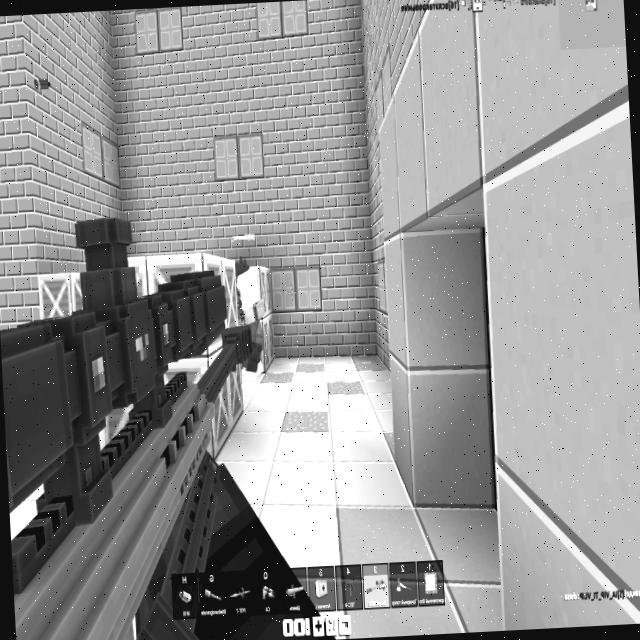Head: (234, 255, 260, 308)
Player: (234, 255, 269, 382)
